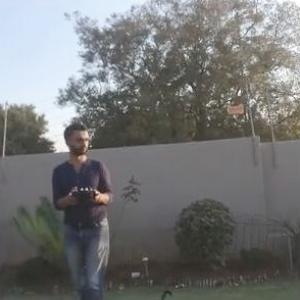follow: (47, 117, 116, 299)
